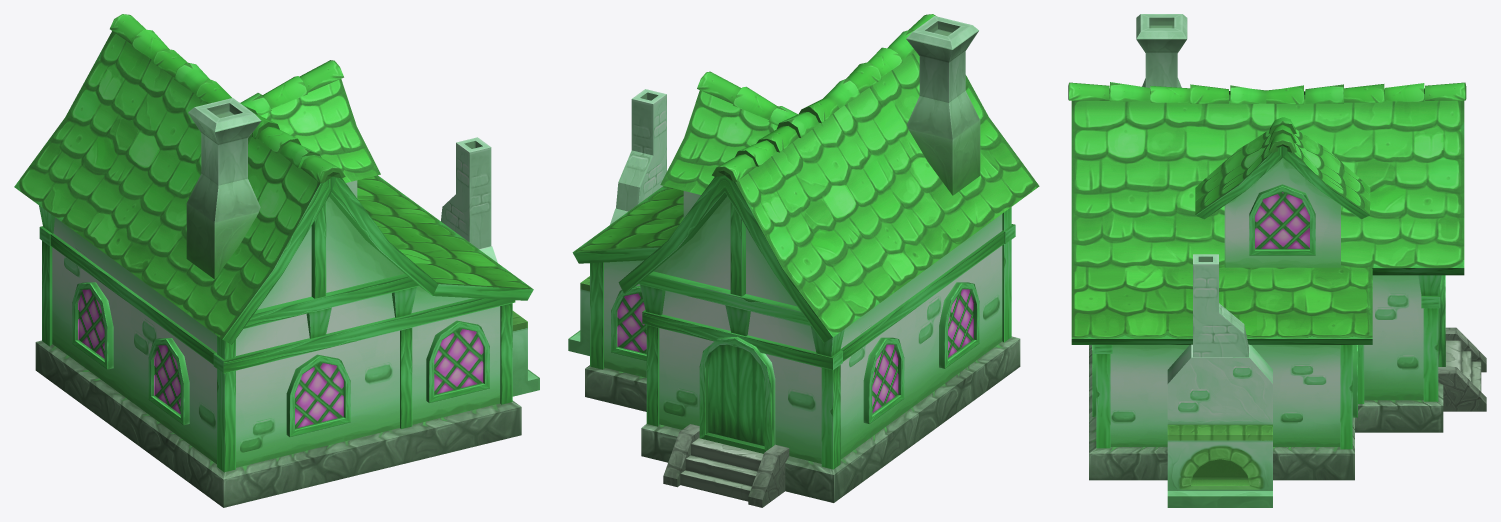
File: houseGreen.fbx
The picture shows the model from 3 angles, left to right: view 1: azimuth 30°, elevation 25°; view 2: azimuth 150°, elevation 25°; view 3: azimuth 270°, elevation 25°; orthographic projection. The views are drawn at different scales.
Visible parts, largest first — view 1: Baker_houseGreen; view 2: Baker_houseGreen; view 3: Baker_houseGreen.
Part boxes in pixels (box(x1,y1,x2,y2)): Baker_houseGreen: box(14, 14, 539, 507); Baker_houseGreen: box(568, 14, 1039, 507); Baker_houseGreen: box(1068, 14, 1486, 507).
Size of the model in its own units: 95.02 by 88.57 by 99.18.
